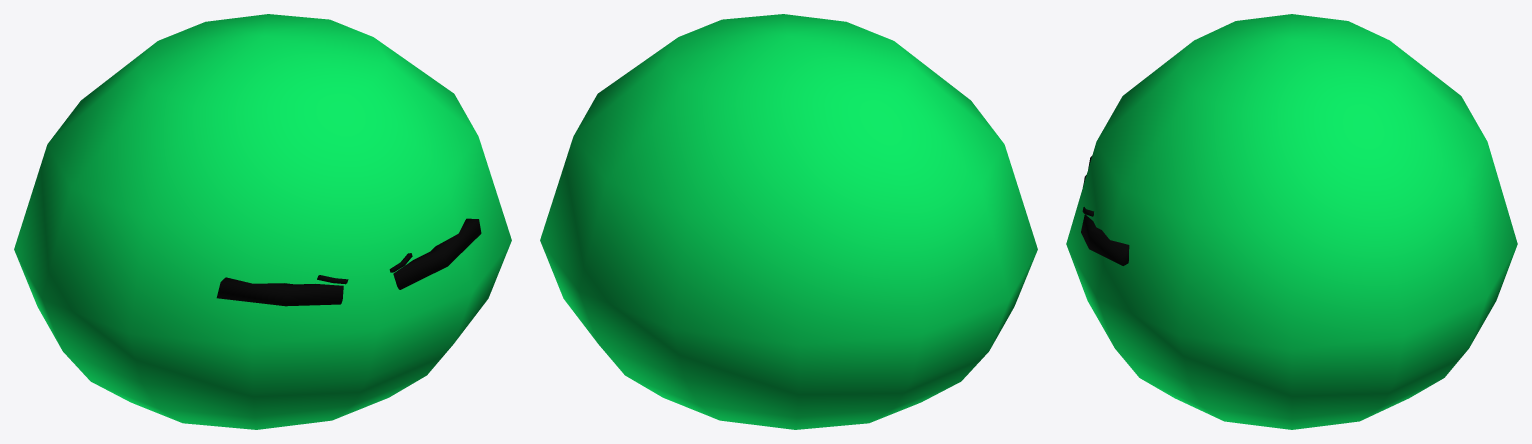
File: Slime.fbx
3 views of the same model, side by side, from view 1: azimuth 30°, elevation 25°; view 2: azimuth 150°, elevation 25°; view 3: azimuth 270°, elevation 25° (orthographic). The views are drawn at different scales.
Visible parts, largest first — view 1: Sphere; view 2: Sphere; view 3: Sphere.
Part boxes in pixels (bbox=[...]): Sphere: bbox=[14, 14, 511, 429]; Sphere: bbox=[540, 14, 1037, 429]; Sphere: bbox=[1066, 14, 1517, 429].
Size of the model in its own units: 212 by 159 by 191.
